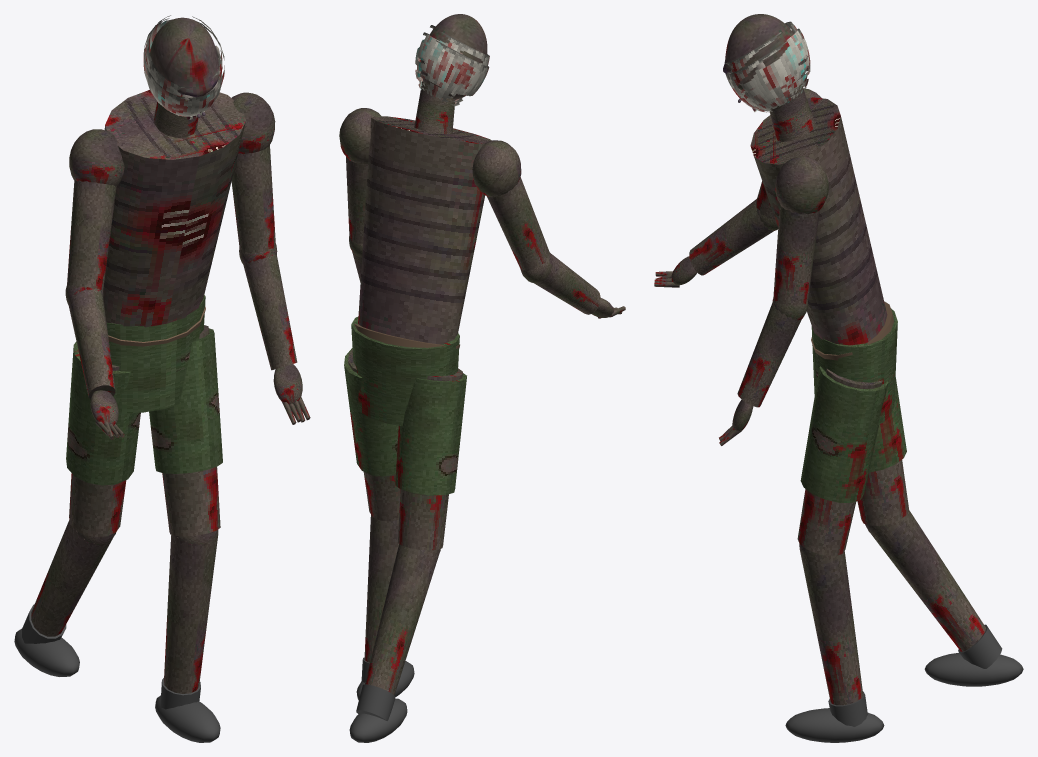
The model's file is Zombie_143.glb.
3 renders of one model, left to right at view 1: azimuth 30°, elevation 25°; view 2: azimuth 150°, elevation 25°; view 3: azimuth 270°, elevation 25°, orthographic. The views are drawn at different scales.
Parts seen in each view (by area): view 1: Zombie_143, object 16, object 10, object 3, object 41, object 40, object 11, object 4; view 2: Zombie_143, object 41, object 3, object 16, object 40; view 3: Zombie_143, object 10, object 3, object 41, object 16, object 40.
Boxes of the visible parts, <box> form: Zombie_143: <box>14,90,275,742</box>; object 16: <box>149,17,220,112</box>; object 10: <box>243,253,297,370</box>; object 3: <box>68,289,115,399</box>; object 41: <box>143,18,224,116</box>; object 40: <box>145,15,222,97</box>; object 11: <box>273,364,302,404</box>; object 4: <box>90,390,118,425</box>; Zombie_143: <box>339,81,550,742</box>; object 41: <box>415,32,489,106</box>; object 3: <box>534,253,600,314</box>; object 16: <box>420,14,487,99</box>; object 40: <box>417,25,489,102</box>; Zombie_143: <box>750,84,1023,742</box>; object 10: <box>737,303,801,407</box>; object 3: <box>689,199,773,275</box>; object 41: <box>725,28,810,112</box>; object 16: <box>723,14,803,89</box>; object 40: <box>725,21,807,99</box>.
Size of the model in its own units: 0.6687 by 1.98 by 0.9409.
16 materials, 6 textured.
